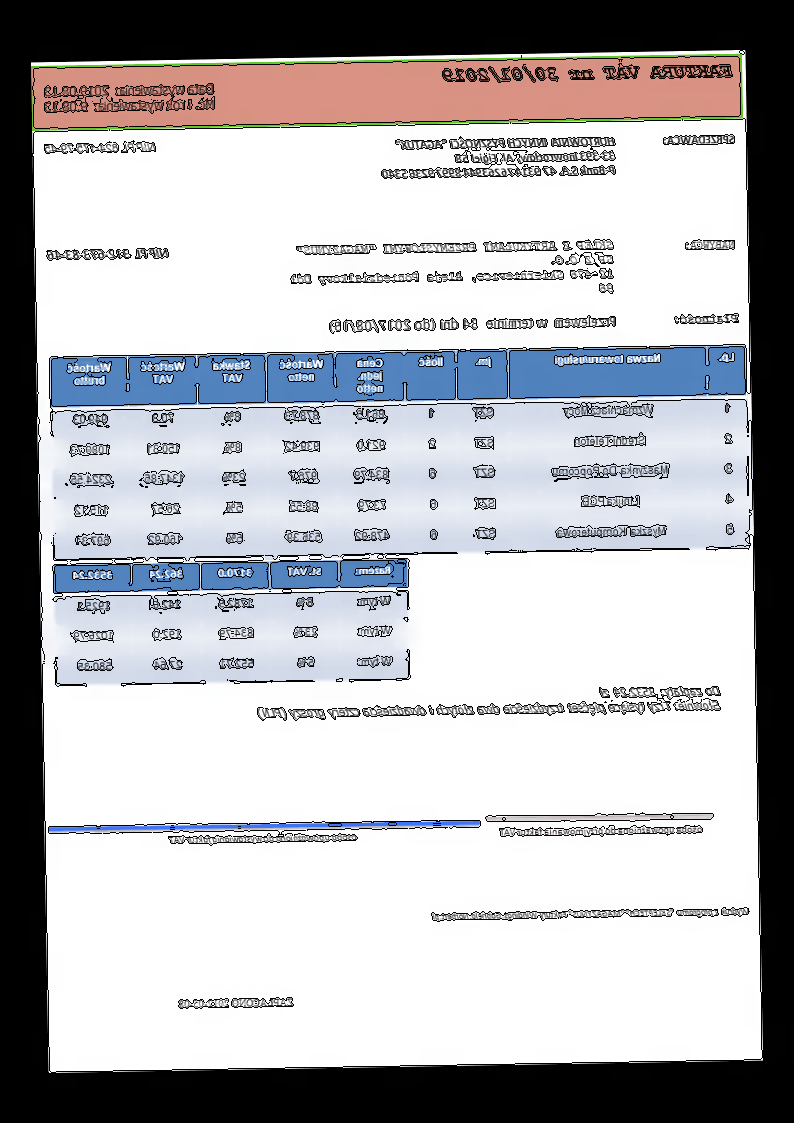Table: (49, 343, 751, 562), (52, 557, 411, 686), (256, 682, 723, 723)
TextBox: (287, 237, 618, 301), (380, 134, 618, 181), (441, 59, 735, 87), (430, 904, 752, 924), (328, 313, 619, 335), (42, 80, 218, 114), (498, 823, 706, 839), (167, 831, 360, 847), (45, 245, 172, 263), (43, 139, 159, 157), (178, 995, 295, 1010), (662, 132, 737, 148), (673, 310, 740, 327), (683, 237, 738, 251)
